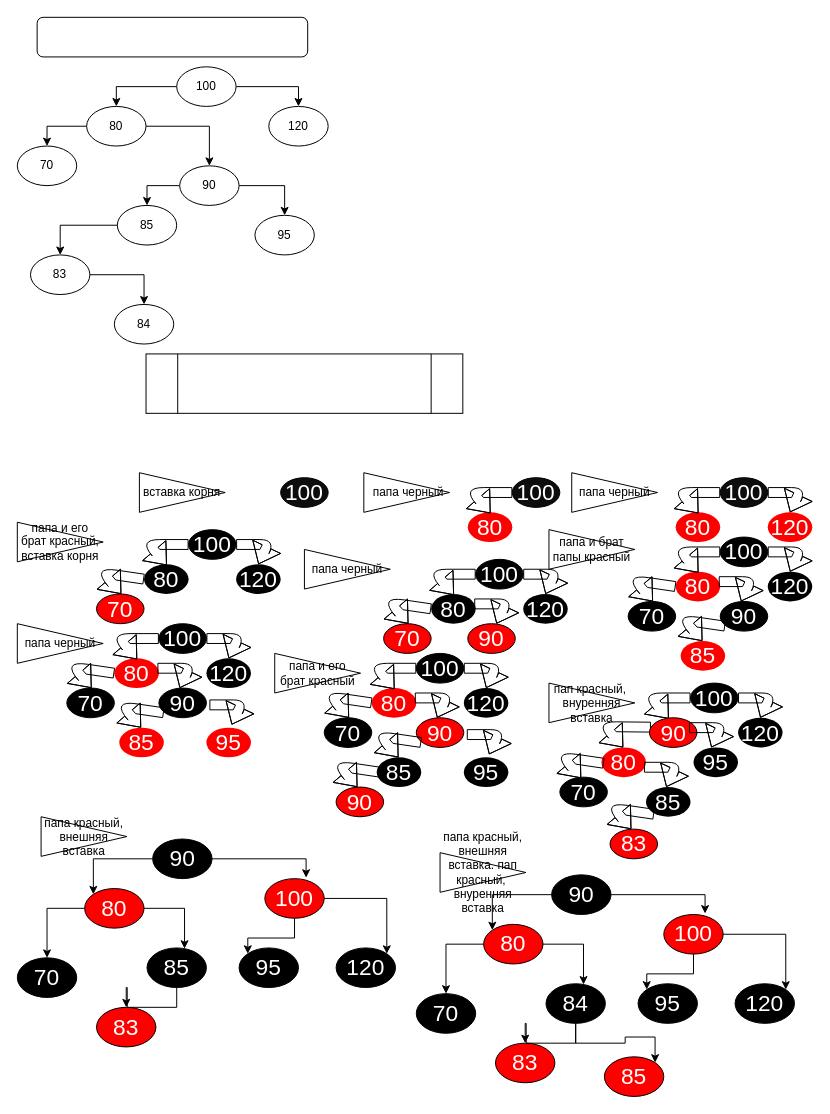
Image size: 830x1114. Some labels were removed from this diagram. The centre of each missing label's shape, as x and y in pixels:
"Бинарное дерево: 100, 80, 120, 70, 90, 85, 95, 83, 84" goes at (x=172, y=36).
"Крвсно-черное дерево :100, 80, 120, 70, 90, 85, 95, 83, 84" goes at (x=304, y=383).
